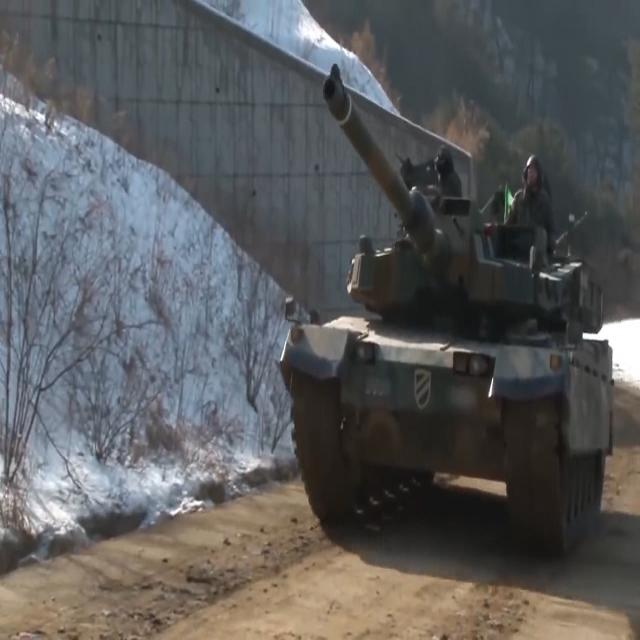korea tank: (278, 63, 616, 555)
